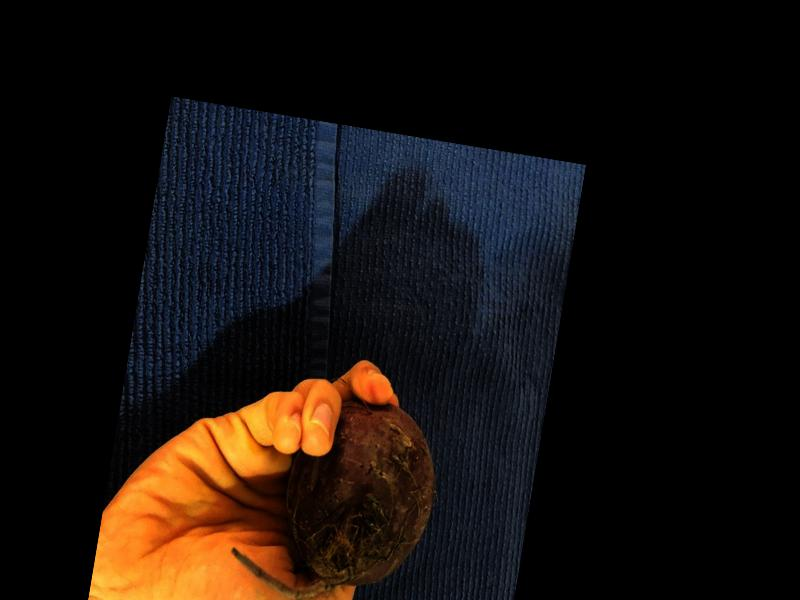Beet: (223, 382, 445, 600)
